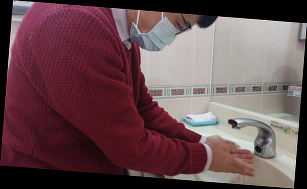with_mask: (127, 12, 195, 54)
